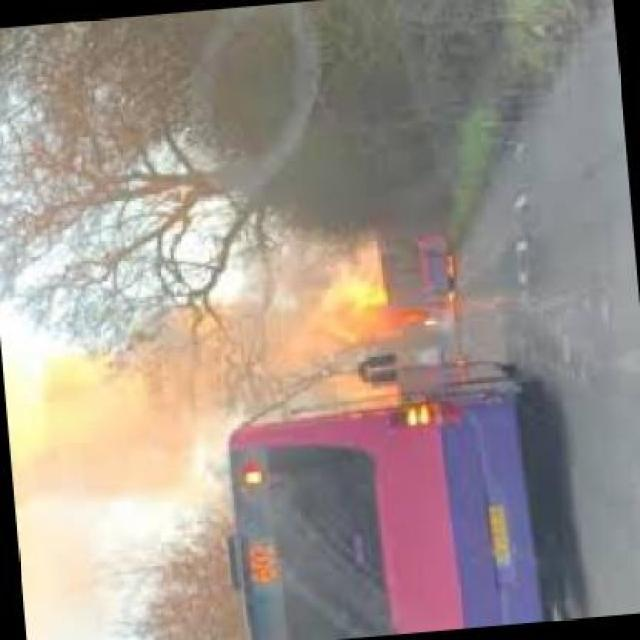Fire: (291, 267, 433, 415)
Smoke: (30, 288, 252, 491)
